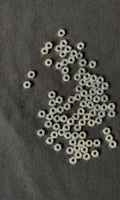nut: (70, 157, 78, 165), (75, 152, 83, 160), (92, 150, 100, 158), (81, 146, 89, 154), (79, 132, 87, 140), (58, 129, 66, 137), (74, 124, 82, 132), (63, 124, 71, 132), (45, 121, 53, 129), (78, 108, 86, 116), (28, 71, 36, 79), (76, 85, 84, 93), (97, 88, 105, 96), (84, 73, 92, 81), (63, 74, 71, 82), (80, 59, 88, 67), (45, 59, 53, 67), (41, 47, 49, 55), (45, 42, 53, 50), (58, 29, 66, 37), (84, 153, 91, 161), (67, 147, 74, 155), (74, 145, 81, 153), (55, 144, 62, 152), (46, 138, 54, 145), (94, 140, 101, 148), (110, 141, 117, 149), (106, 135, 114, 142), (86, 140, 94, 147), (79, 140, 86, 148), (70, 139, 77, 147), (38, 129, 45, 137), (72, 132, 79, 140), (65, 132, 72, 140), (51, 132, 59, 139), (53, 123, 60, 131), (109, 103, 116, 111), (96, 117, 103, 125), (88, 120, 96, 127), (79, 119, 87, 126), (68, 118, 75, 126), (61, 115, 68, 123), (54, 115, 61, 123), (47, 113, 54, 121), (38, 111, 46, 118), (84, 113, 91, 121), (73, 113, 80, 121), (89, 110, 97, 117), (102, 104, 109, 112), (95, 104, 102, 112), (64, 103, 71, 111), (57, 106, 64, 114), (50, 107, 57, 115), (102, 95, 109, 103), (94, 96, 101, 104), (49, 100, 57, 107), (49, 91, 56, 99), (68, 97, 76, 104), (81, 90, 88, 98), (102, 83, 110, 90), (93, 82, 101, 89), (97, 77, 105, 84), (87, 80, 94, 88), (62, 67, 69, 75), (90, 61, 97, 69), (76, 52, 83, 60), (56, 62, 63, 70), (68, 57, 76, 64), (78, 42, 85, 50), (56, 45, 63, 53), (60, 40, 68, 47), (104, 128, 111, 135), (109, 111, 116, 118), (99, 111, 106, 118), (88, 102, 95, 109), (81, 101, 88, 108), (86, 95, 93, 102), (56, 97, 63, 104), (24, 82, 31, 89), (75, 94, 82, 101), (90, 89, 97, 96), (80, 79, 87, 86), (91, 75, 98, 82), (75, 74, 82, 81), (79, 68, 86, 75), (62, 59, 69, 66), (71, 50, 78, 57), (60, 51, 67, 58), (65, 46, 72, 53)
